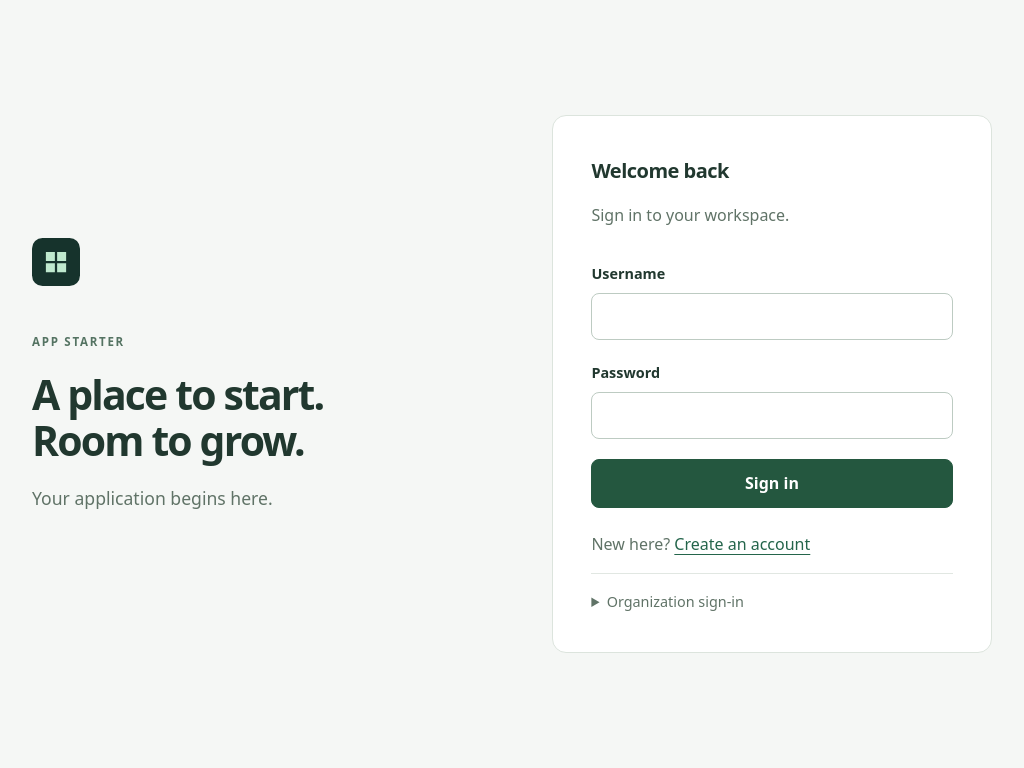
starter application › signs in, shows the workspace, and signs out with the CSRF token
Step 1. Type "member" into the field labelled "Username" → [772, 316], box [591,293,953,340]
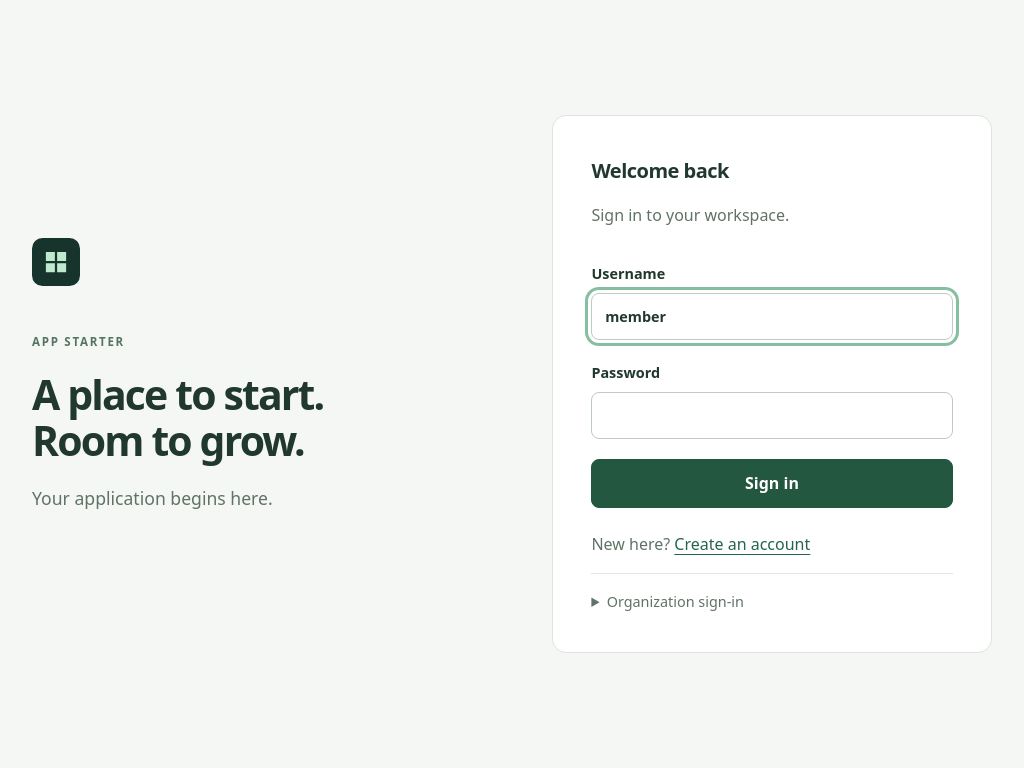
Step 2. Type "password-example" into the password field labelled "Password" → [772, 416], box [591,392,953,440]
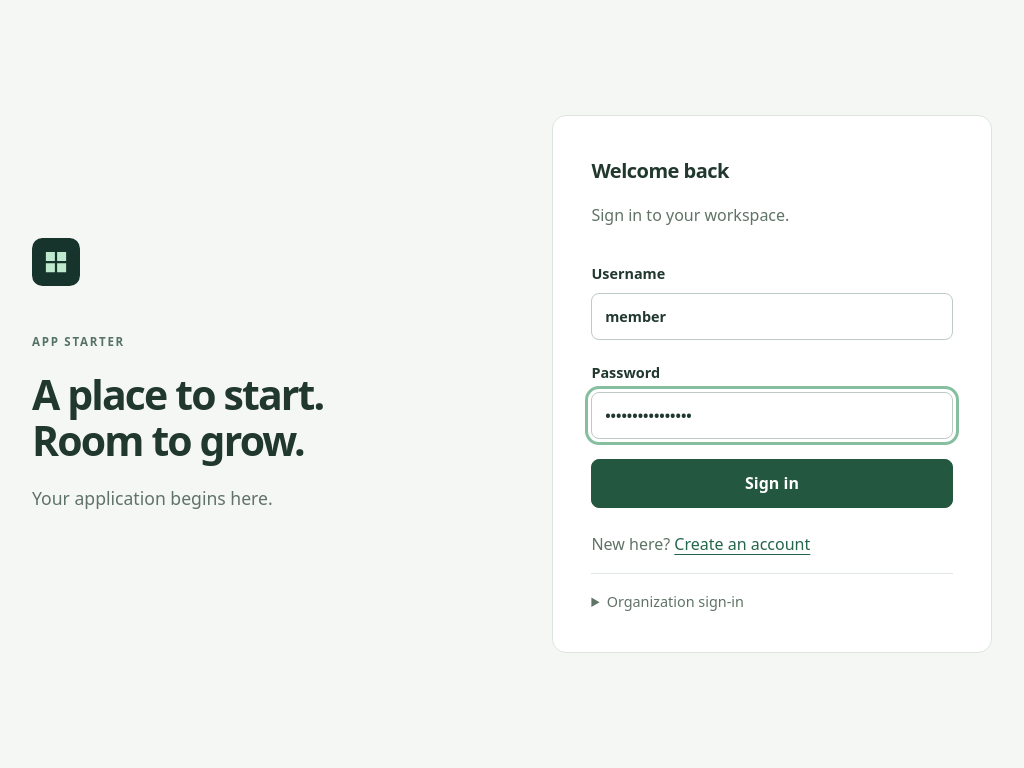
Step 3. Click the button "Sign in" → [772, 484], box [591,460,953,508]
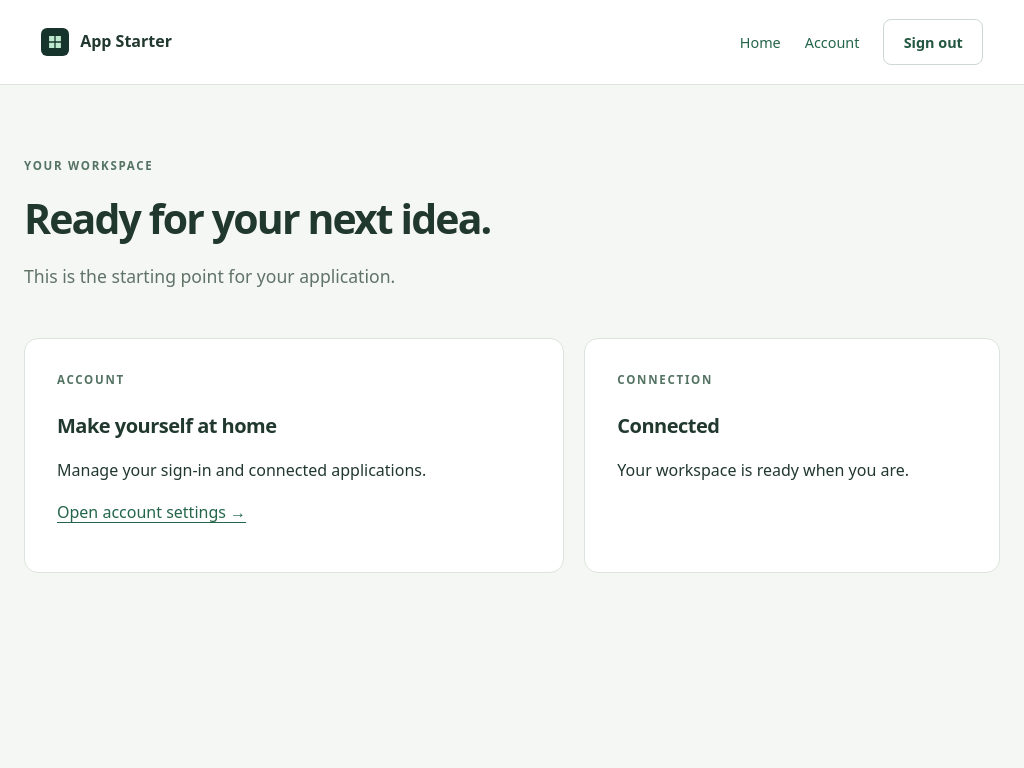
Check: the heading "Ready for your next idea." is shown, box [24,190,490,246]
Check: the heading "Connected" is shown, box [617,412,720,439]
Step 4. Click the button "Sign out" → [933, 42], box [883,19,983,65]
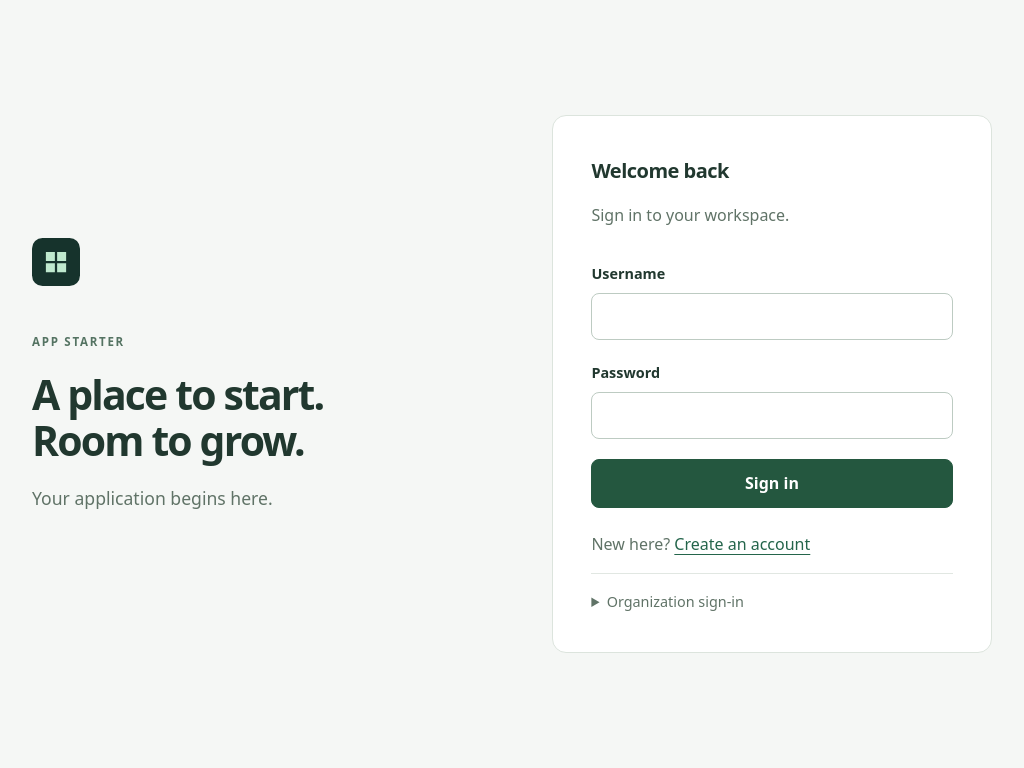
Check: the field labelled "Username" is shown, box [591,293,953,340]
